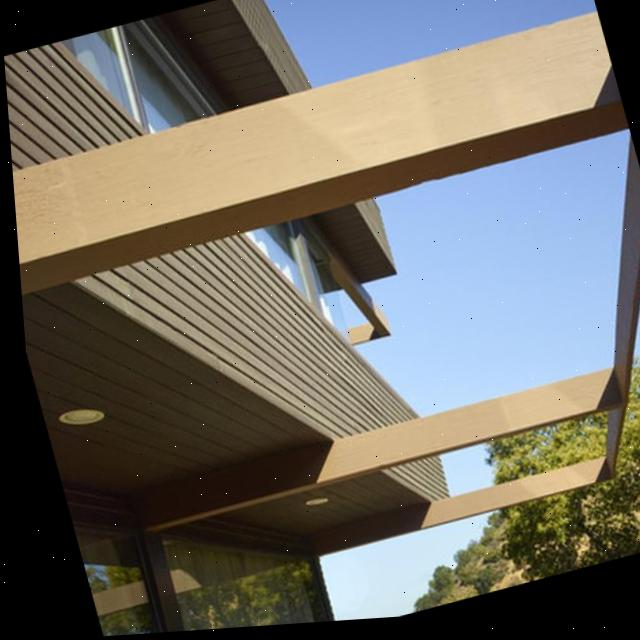building: (0, 0, 468, 611)
